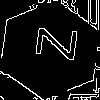Z: (25, 25, 78, 61)
